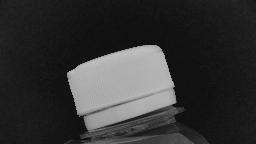Broken Cap: (64, 40, 190, 140)
